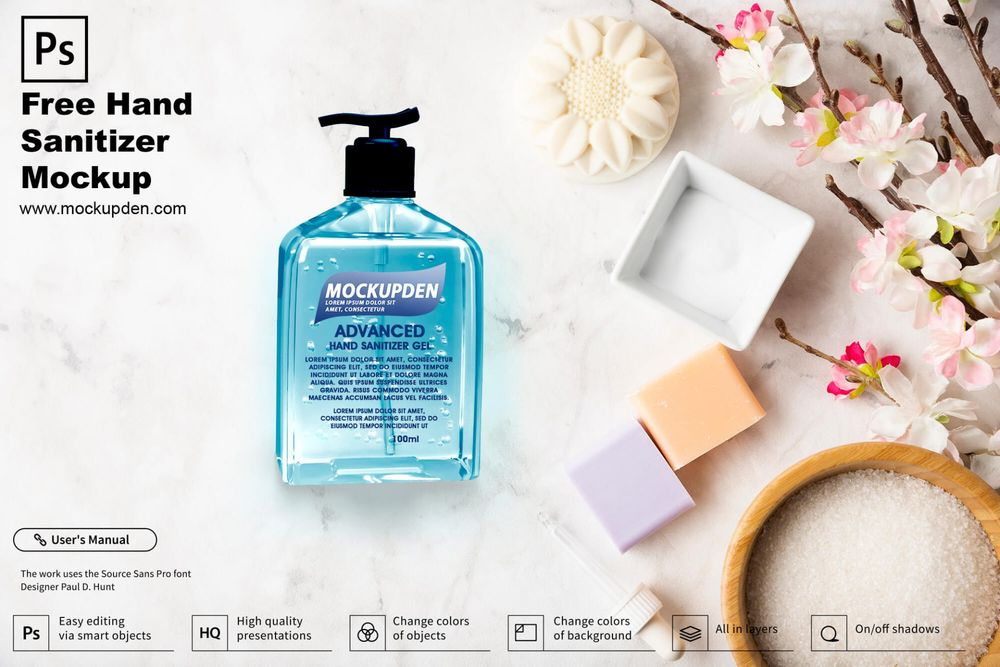Medicine: (264, 84, 500, 508)
